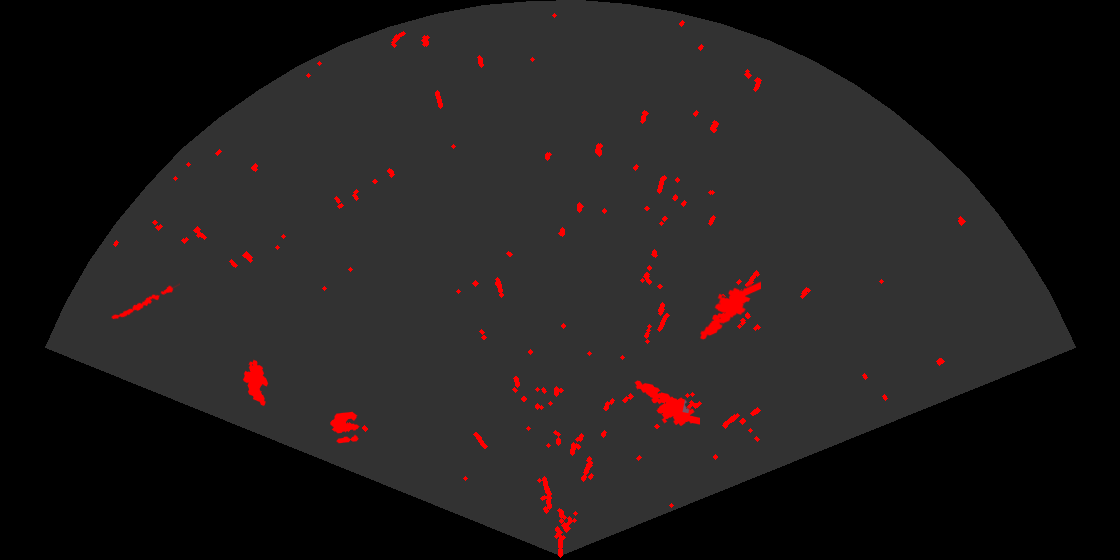AUV: (241, 358, 270, 408)
ball: (329, 410, 361, 445)
chain: (110, 281, 180, 321)
frogman: (698, 280, 761, 341), (633, 379, 700, 428)
